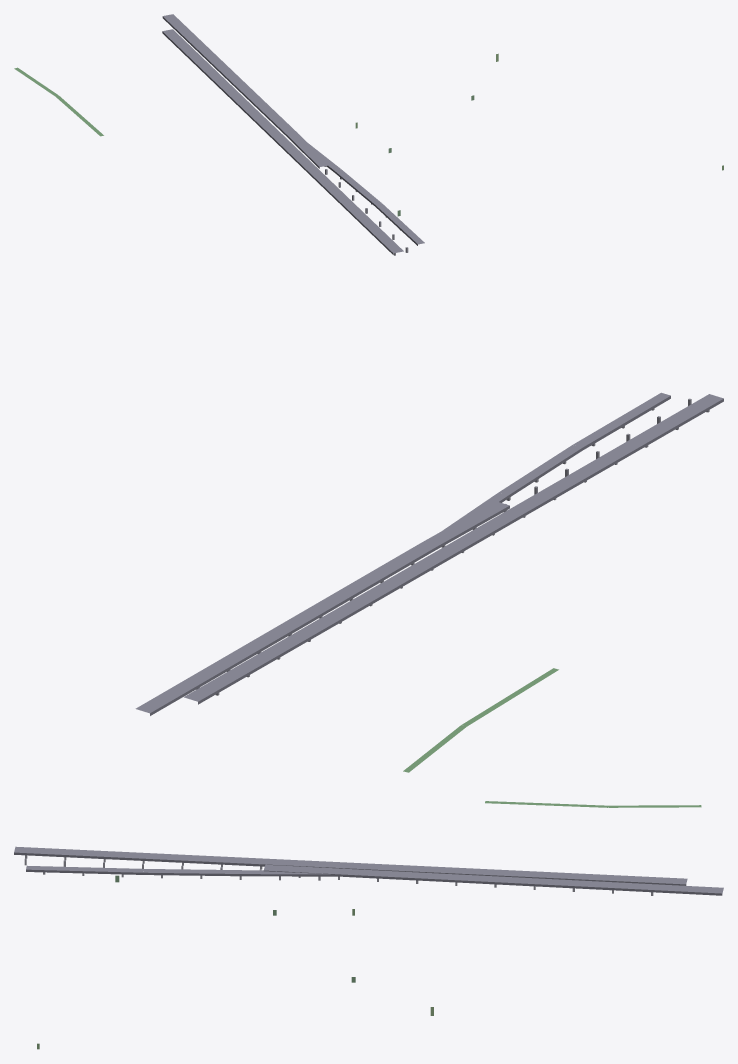
The picture shows the model from 3 angles, top to bottom: view 1: azimuth 30°, elevation 25°; view 2: azimuth 150°, elevation 25°; view 3: azimuth 270°, elevation 25°; orthographic projection. The views are drawn at different scales.
Size of the model in its own units: 448 by 8.4 by 541.
